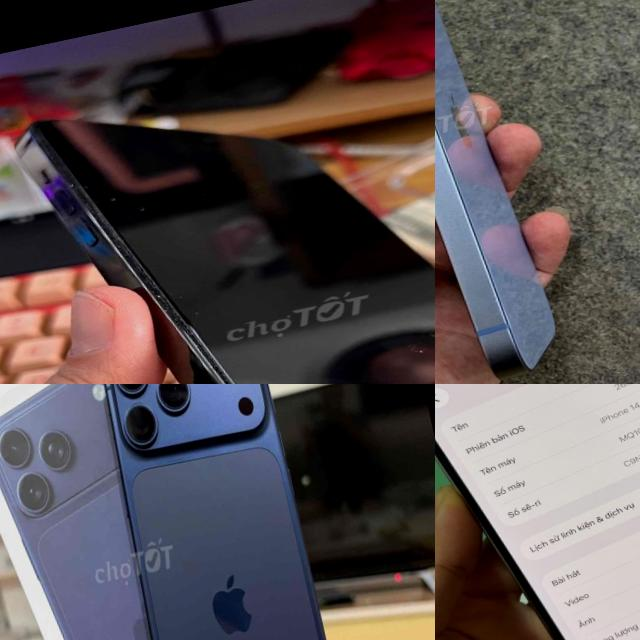gen_14: (0, 13, 435, 384), (435, 0, 574, 384), (435, 384, 640, 640)
gen_17: (87, 384, 367, 640)
scratch: (80, 182, 190, 356)
